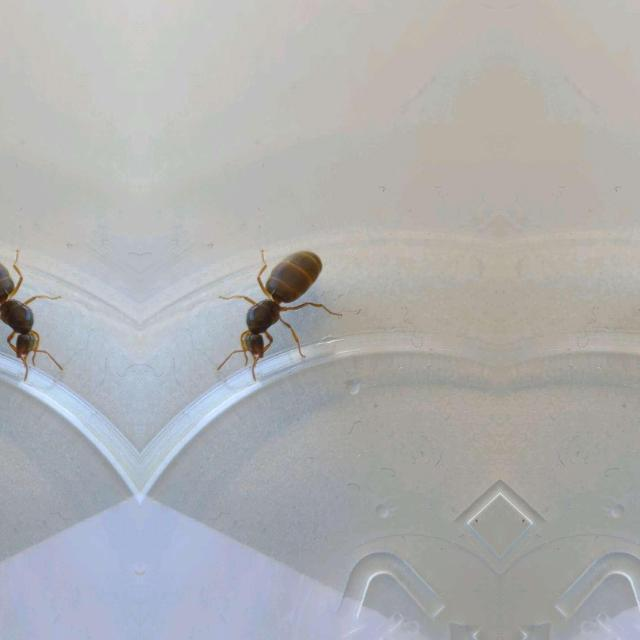Lasius: (226, 234, 330, 374), (0, 234, 52, 372)
